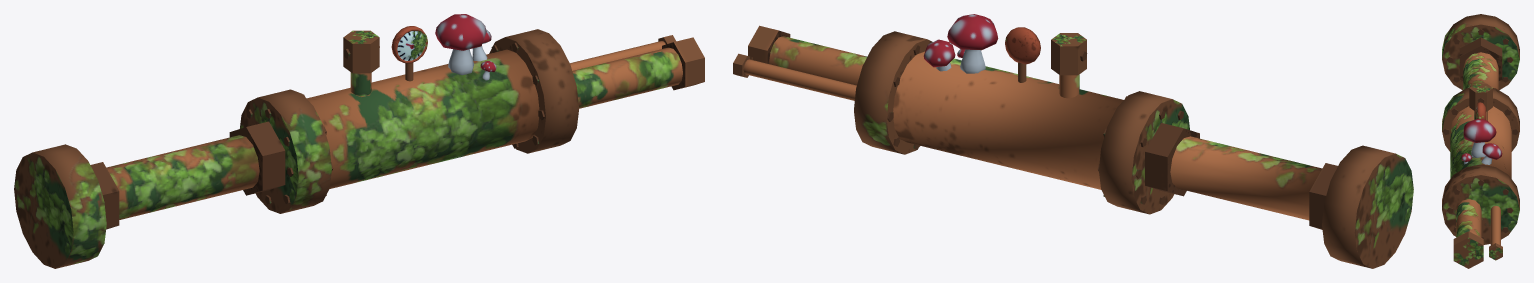
File: SteampunkPipeA.fbx
The picture shows the model from 3 angles, left to right: view 1: azimuth 30°, elevation 25°; view 2: azimuth 150°, elevation 25°; view 3: azimuth 270°, elevation 25°; orthographic projection. The views are drawn at different scales.
Parts seen in each view (by area): view 1: SteampunkPipeA; view 2: SteampunkPipeA; view 3: SteampunkPipeA.
Boxes of the visible parts, x1,y1,x2,y2 form: SteampunkPipeA: (14, 14, 704, 268); SteampunkPipeA: (733, 14, 1413, 268); SteampunkPipeA: (1442, 14, 1519, 268).
Bounding box in the file's own units: 596 × 133 × 96.07.
